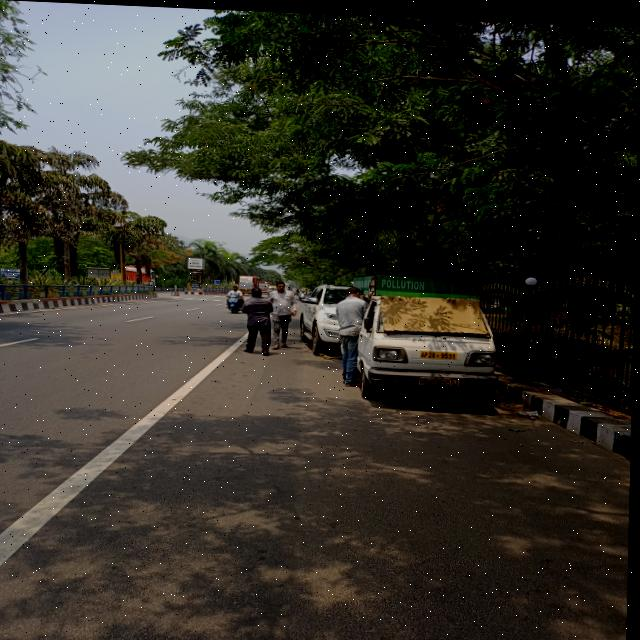car: (352, 290, 511, 408), (302, 279, 342, 350)
